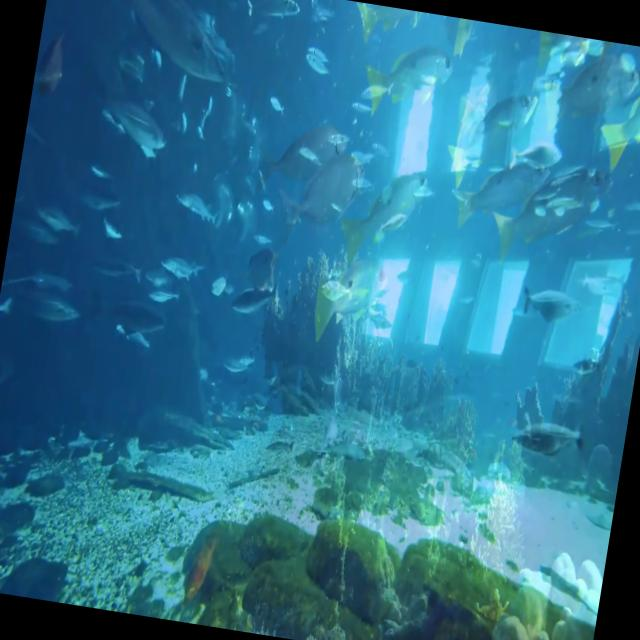fish: (323, 154, 446, 284), (85, 0, 242, 89), (453, 131, 558, 251), (453, 60, 547, 156), (504, 402, 599, 474), (273, 112, 359, 181), (156, 168, 228, 240), (388, 37, 457, 109), (510, 270, 588, 328), (110, 100, 179, 158), (26, 286, 84, 344), (32, 189, 82, 244), (232, 270, 281, 318), (237, 0, 304, 33), (300, 42, 338, 83), (354, 67, 396, 104), (98, 216, 132, 246)
